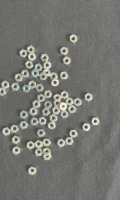nut: (12, 146, 21, 155), (57, 139, 66, 148), (59, 102, 68, 111), (37, 94, 46, 103), (29, 167, 37, 176), (43, 148, 51, 157), (27, 141, 35, 150), (42, 139, 51, 147), (65, 138, 74, 146), (12, 136, 20, 145), (2, 128, 11, 136), (37, 130, 46, 138), (82, 124, 91, 132), (20, 121, 28, 130), (39, 117, 47, 126), (50, 114, 58, 123), (42, 108, 51, 116), (52, 107, 61, 115), (61, 110, 69, 119), (68, 106, 77, 114), (33, 100, 41, 109), (44, 101, 53, 109), (74, 98, 82, 107), (85, 93, 93, 102), (54, 94, 62, 103), (61, 91, 69, 100), (22, 85, 31, 93), (11, 83, 20, 91), (1, 81, 10, 89), (14, 74, 23, 82), (21, 70, 30, 78), (60, 72, 69, 80), (35, 149, 43, 157), (35, 141, 43, 149), (70, 130, 78, 138), (92, 118, 100, 126), (11, 125, 19, 133), (48, 122, 56, 130), (31, 118, 39, 126), (20, 111, 28, 119), (30, 108, 38, 116), (66, 98, 74, 106), (44, 91, 52, 99), (36, 84, 44, 92), (51, 79, 59, 87), (40, 73, 48, 81), (43, 69, 51, 77), (25, 61, 33, 69), (41, 54, 49, 62), (63, 57, 71, 65), (28, 53, 36, 61), (20, 50, 28, 58), (27, 46, 35, 54), (61, 47, 69, 55), (70, 35, 78, 43), (32, 69, 39, 78), (44, 61, 51, 70), (29, 81, 36, 89), (50, 73, 58, 80), (35, 64, 43, 71), (43, 155, 52, 161), (54, 101, 62, 107), (0, 88, 6, 96)
